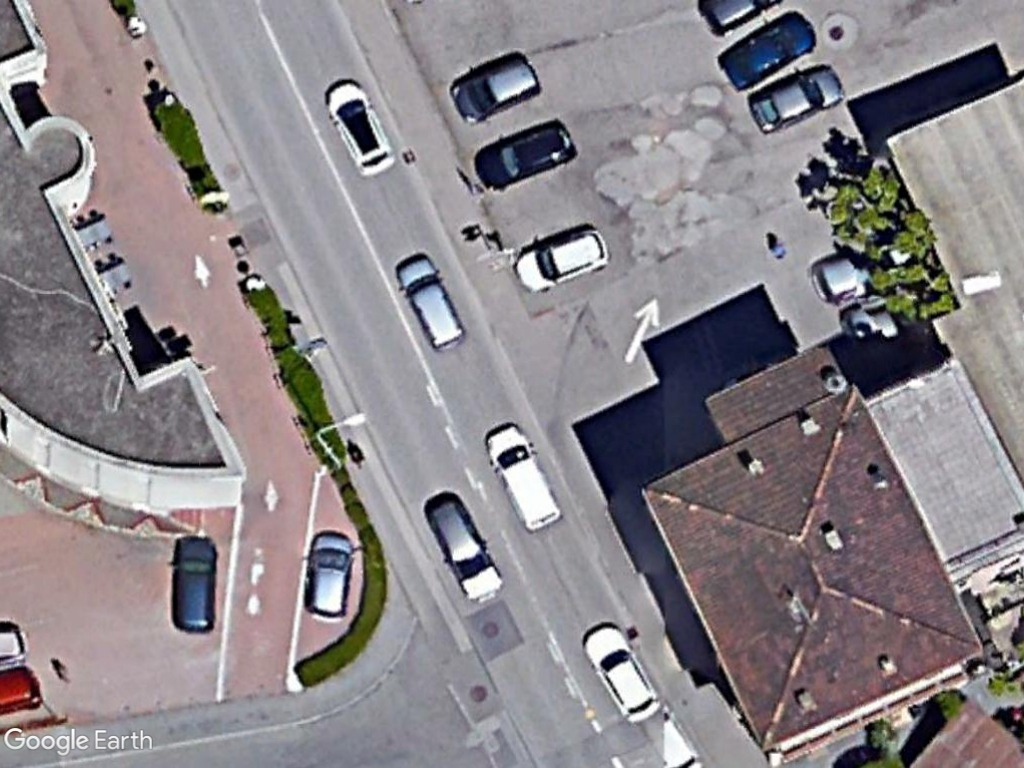car: (468, 114, 582, 197), (428, 492, 508, 610), (581, 615, 664, 728), (715, 11, 820, 90), (319, 74, 396, 180), (744, 62, 850, 137), (393, 252, 468, 355), (513, 225, 611, 295), (450, 57, 542, 122), (301, 526, 359, 621), (169, 530, 220, 638)
van: (481, 421, 564, 533)
